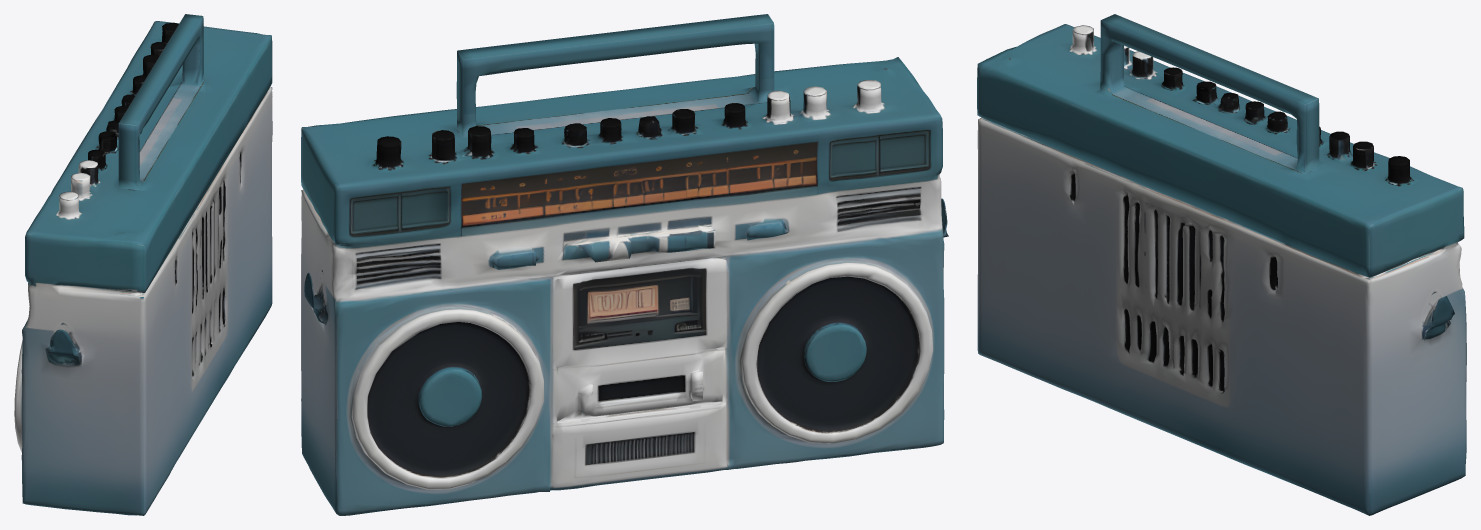
File: radio.glb
The picture shows the model from 3 angles, left to right: view 1: azimuth 30°, elevation 25°; view 2: azimuth 150°, elevation 25°; view 3: azimuth 270°, elevation 25°; orthographic projection. The views are drawn at different scales.
Visible parts, largest first — view 1: Beach boombox; view 2: Beach boombox; view 3: Beach boombox.
Part boxes in pixels (left/top/right/bottom): Beach boombox: left=14, top=14, right=272, bottom=515; Beach boombox: left=301, top=14, right=948, bottom=515; Beach boombox: left=977, top=14, right=1466, bottom=515.
Bounding box in the file's own units: 17.11 × 14.17 × 17.33.
Materials: 1 (1 with a texture image).
